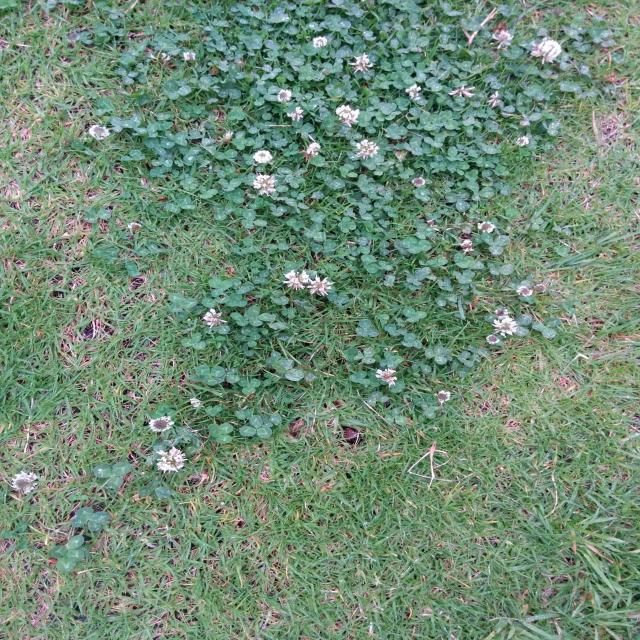Four Leaf Clover: (71, 507, 110, 532)
